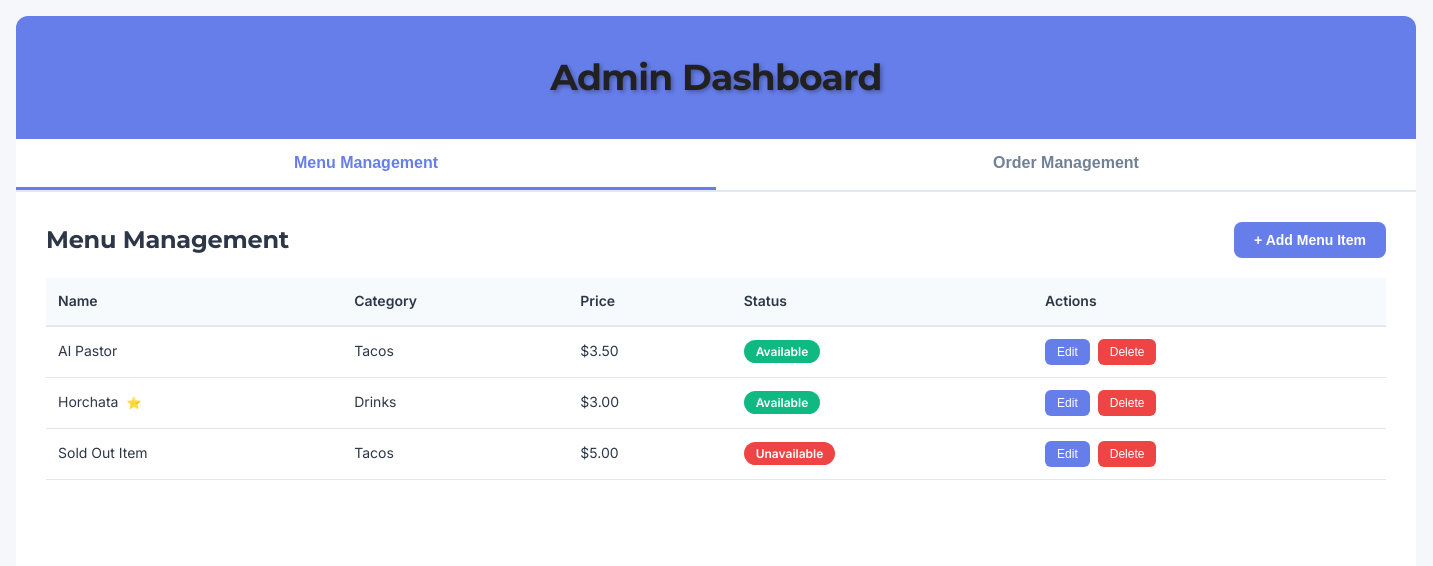
Test case: AdminDashboard Page › deletes a menu item
Click the button "Delete" in the row of "Al Pastor": click(1127, 352) [1098,339,1156,365]
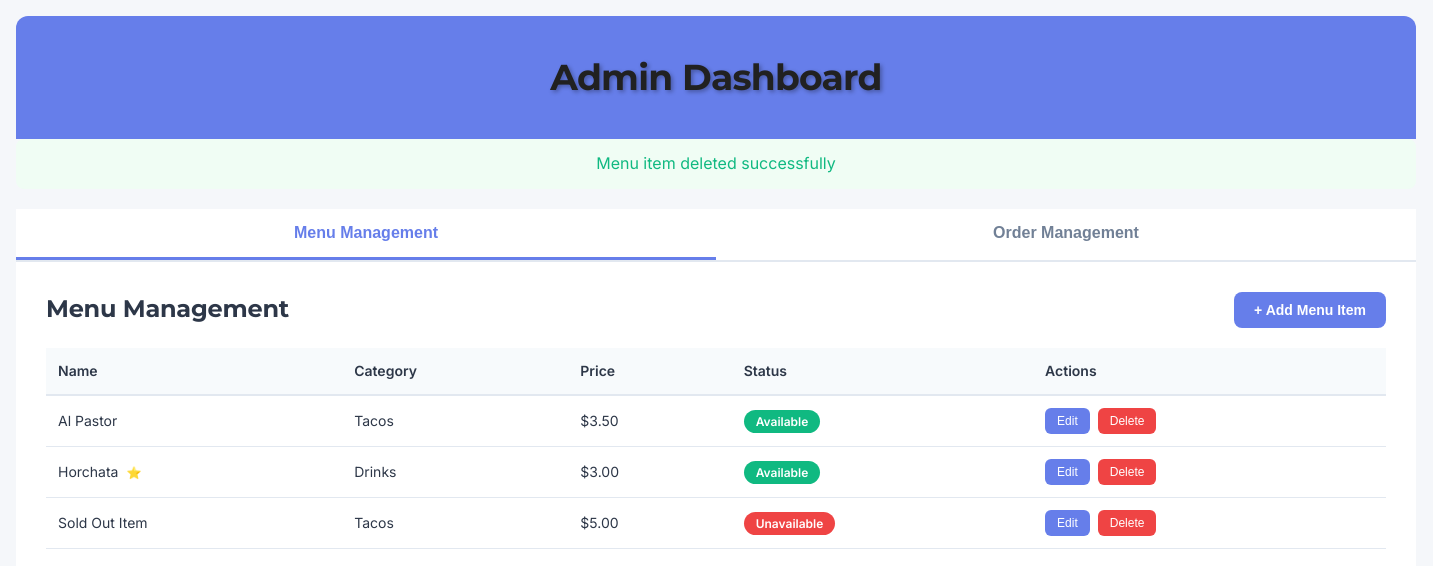
Check: the text "Menu item deleted successfully" is shown, box [16,139,1416,189]
